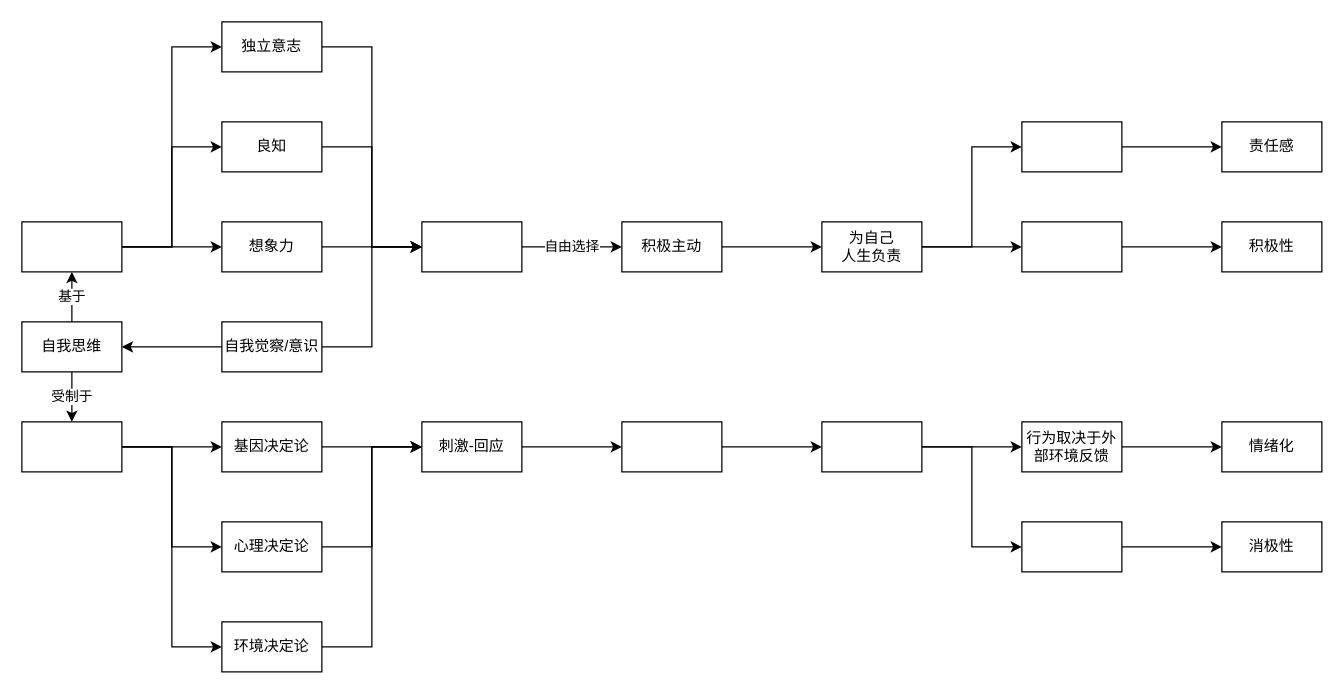
Image size: 1344x694. Some labels were removed from this diagram. Each missing label, with the centre of its shape:
主动创造有利外界环境: [1071,246]
人类独有 天赋&潜力: [471,246]
原则&现实: [71,246]
受外界条件 制约: [871,446]
消极被动: [671,446]
社会&环境: [71,446]
行为取决于 自身抉择: [1071,146]
被动受 外部环境控制: [1071,546]
